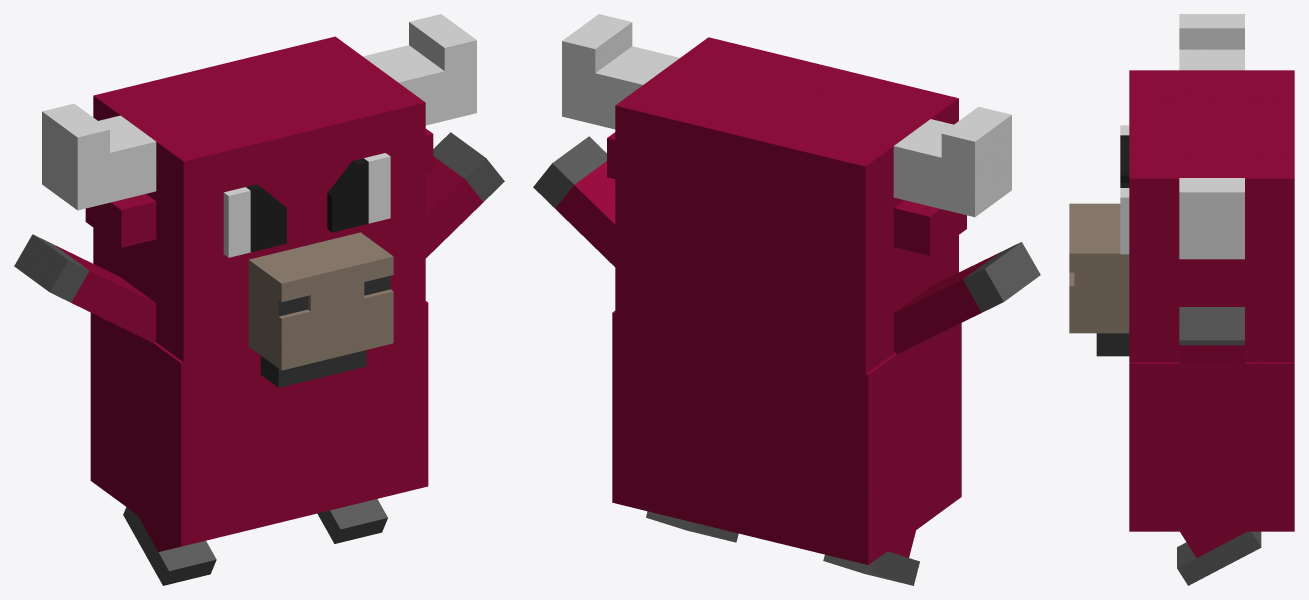
The picture shows the model from 3 angles, left to right: view 1: azimuth 30°, elevation 25°; view 2: azimuth 150°, elevation 25°; view 3: azimuth 270°, elevation 25°; orthographic projection. The views are drawn at different scales.
Visible parts, largest first — view 1: Ch_30_Head, Ch_30, Ch_30_Eye_01, Ch_30_Hand_L, Ch_30_Hand_R, Ch_30_Leg_L, Ch_30_Leg_R; view 2: Ch_30_Head, Ch_30, Ch_30_Hand_L, Ch_30_Hand_R, Ch_30_Leg_L, Ch_30_Leg_R; view 3: Ch_30_Head, Ch_30, Ch_30_Hand_R, Ch_30_Leg_R, Ch_30_Eye_01.
Boxes of the visible parts, left/top/right/bottom form: Ch_30_Head: left=42, top=14, right=476, bottom=387; Ch_30: left=90, top=301, right=428, bottom=546; Ch_30_Eye_01: left=223, top=153, right=390, bottom=257; Ch_30_Hand_L: left=14, top=234, right=156, bottom=342; Ch_30_Hand_R: left=425, top=132, right=504, bottom=258; Ch_30_Leg_L: left=123, top=507, right=216, bottom=585; Ch_30_Leg_R: left=317, top=499, right=387, bottom=543; Ch_30_Head: left=562, top=14, right=1011, bottom=374; Ch_30: left=612, top=311, right=961, bottom=564; Ch_30_Hand_L: left=893, top=242, right=1040, bottom=354; Ch_30_Hand_R: left=533, top=136, right=615, bottom=266; Ch_30_Leg_L: left=823, top=530, right=919, bottom=585; Ch_30_Leg_R: left=646, top=511, right=738, bottom=542; Ch_30_Head: left=1069, top=14, right=1294, bottom=362; Ch_30: left=1129, top=362, right=1294, bottom=531; Ch_30_Hand_R: left=1179, top=307, right=1244, bottom=363; Ch_30_Leg_R: left=1177, top=531, right=1261, bottom=585; Ch_30_Eye_01: left=1120, top=125, right=1129, bottom=254.
Size of the model in its own units: 12.7 by 12.64 by 5.95.
